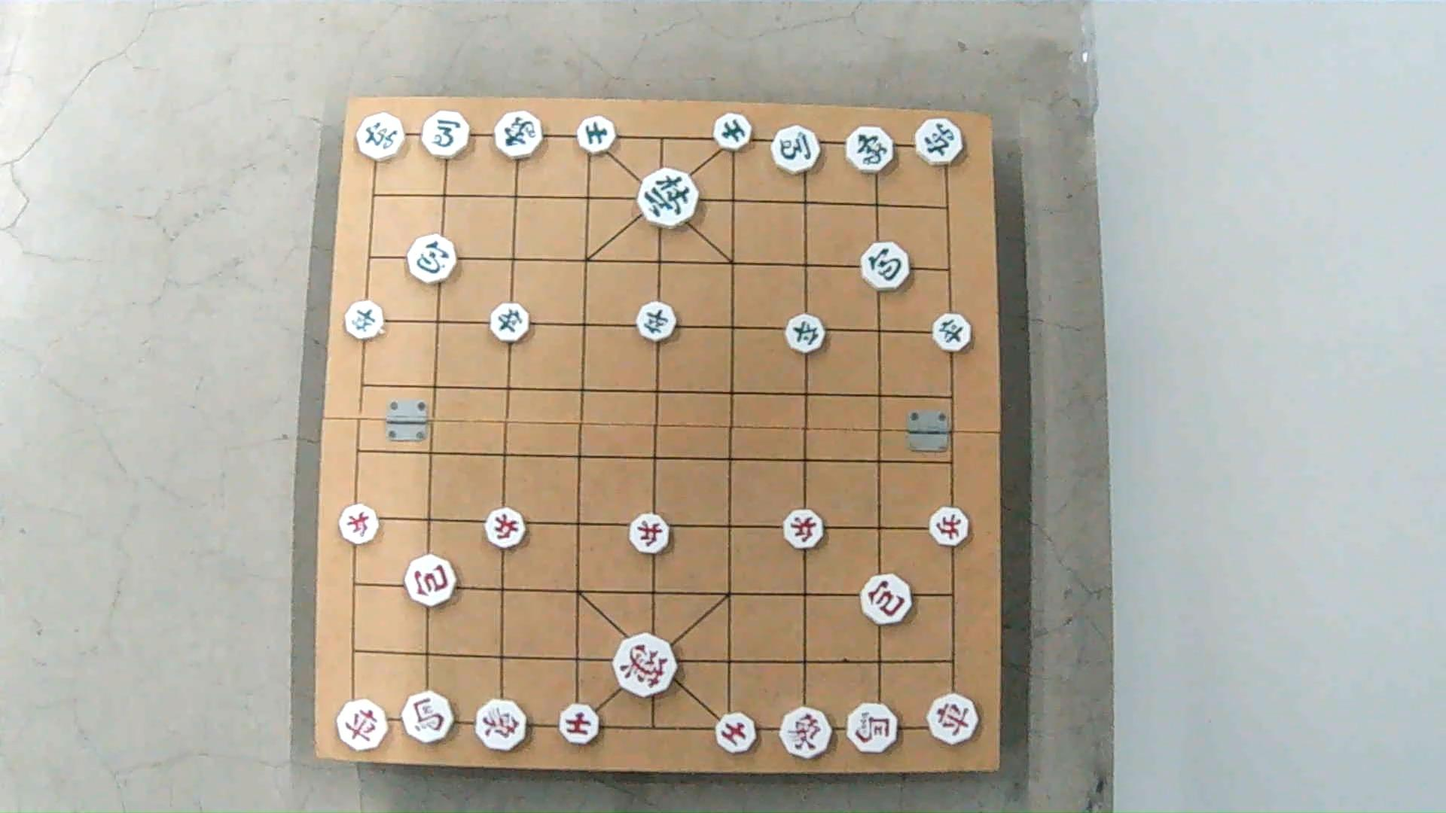cha_green: (357, 112, 404, 161), (917, 120, 965, 167)
cha_red: (929, 693, 979, 744), (337, 701, 389, 749)
jol_green: (634, 303, 677, 342), (932, 317, 975, 354), (785, 317, 826, 355), (488, 305, 529, 343), (346, 303, 388, 339)
jol_red: (483, 510, 525, 549), (627, 516, 669, 555), (784, 512, 826, 550), (337, 505, 378, 543), (930, 509, 971, 547)
ma_green: (768, 126, 818, 171), (423, 113, 472, 158)
ma_red: (400, 693, 453, 742), (848, 704, 900, 751)
po_green: (407, 237, 456, 284), (861, 244, 911, 289)
po_red: (859, 577, 913, 626), (404, 556, 456, 606)
sa_green: (712, 115, 753, 151), (580, 116, 621, 151)
sa_red: (716, 712, 758, 752), (558, 705, 600, 744)
sang_green: (494, 110, 543, 159), (846, 123, 893, 173)
sang_red: (780, 708, 834, 757), (472, 700, 526, 749)
wang_green: (634, 170, 697, 225)
wang_red: (612, 637, 677, 696)
